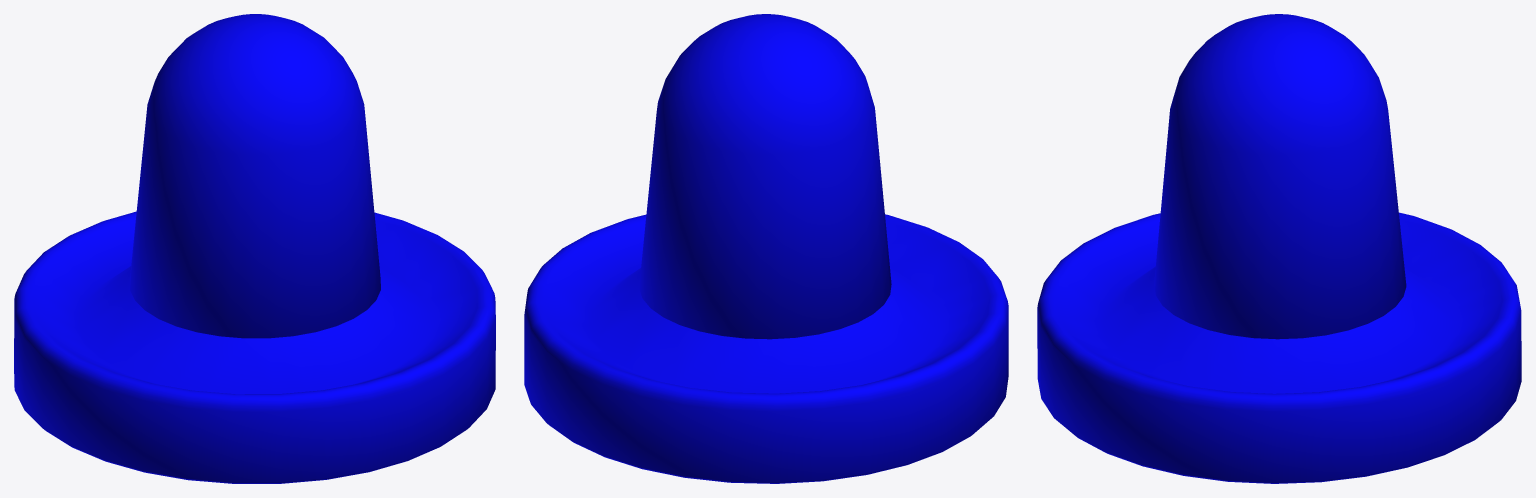
File: paddle_blue.fbx
3 views of the same model, side by side, from view 1: azimuth 30°, elevation 25°; view 2: azimuth 150°, elevation 25°; view 3: azimuth 270°, elevation 25° (orthographic).
Visible parts, largest first — view 1: PUCK.001; view 2: PUCK.001; view 3: PUCK.001.
Boxes of the visible parts, box(x1,y1,x2,y2) form: PUCK.001: box(14, 14, 495, 483); PUCK.001: box(524, 14, 1008, 483); PUCK.001: box(1037, 14, 1521, 483).
Size of the model in its own units: 175 by 143 by 175.
